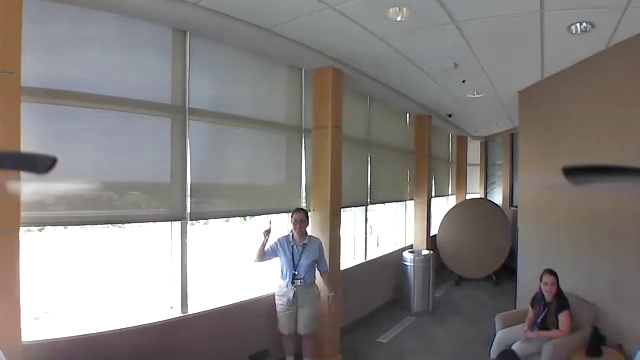up: (261, 215, 276, 242)
